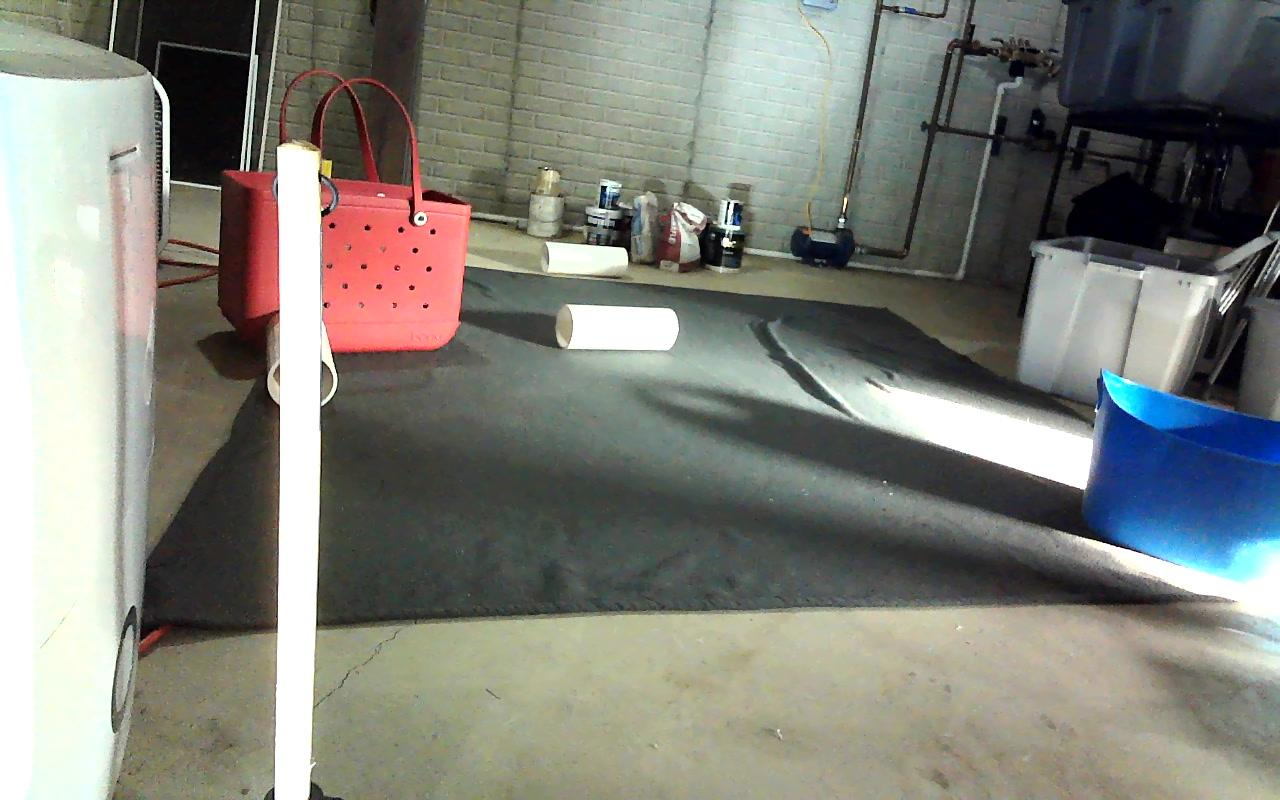coral: (267, 310, 336, 407), (555, 302, 677, 350), (545, 241, 626, 274)
